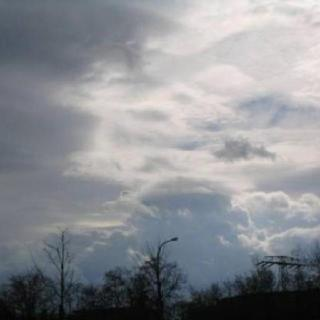Cumulus: (0, 0, 320, 296)
